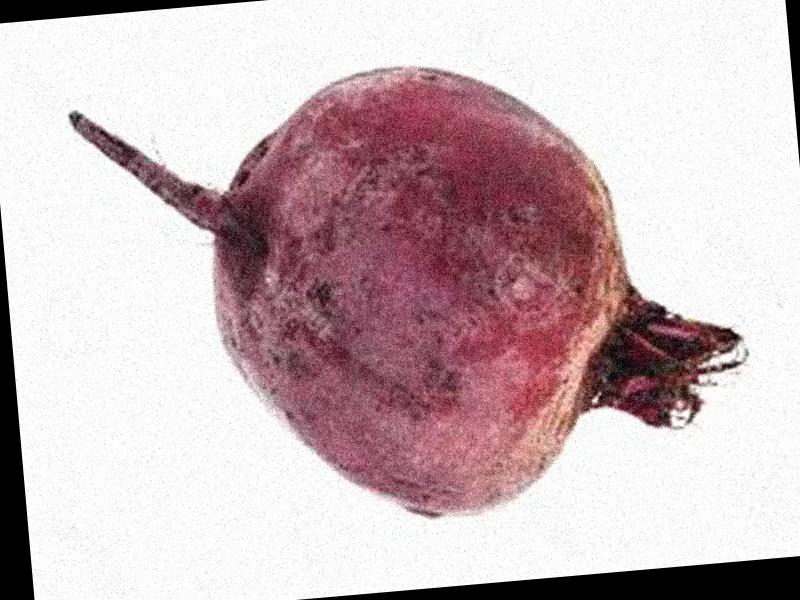Beet: (74, 41, 754, 540)
